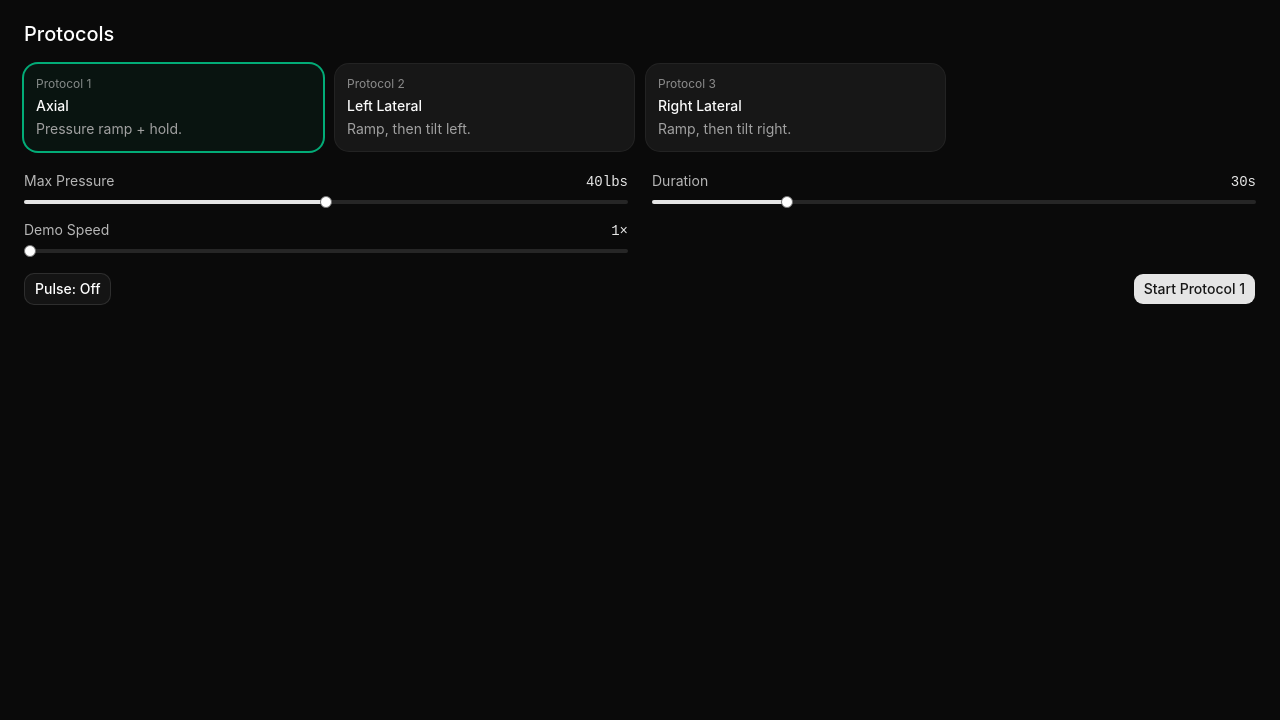
ProtocolsPage › Start Protocol sets running state and shows the running banner
The width and height of the screenshot is (1280, 720).
Click the button "Start Protocol 1" at (1194, 289), box [1133,273,1256,305]
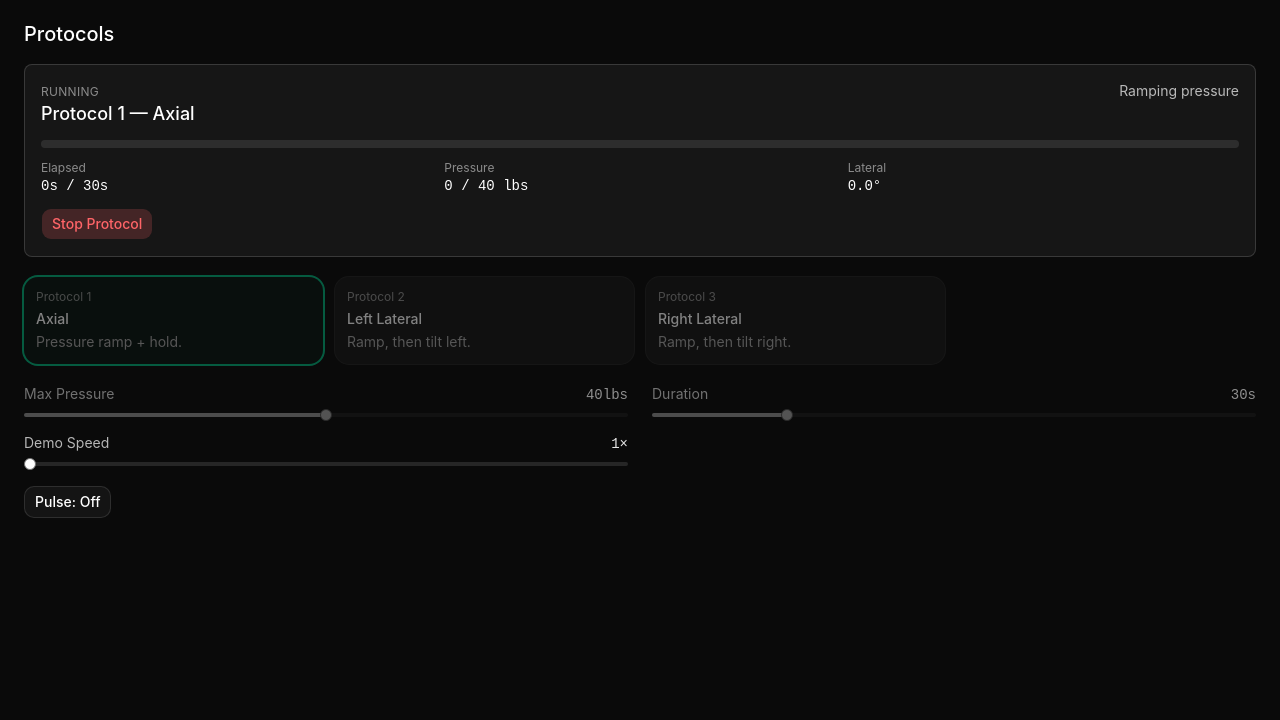
Now the text "Protocol 1 — Axial" is shown, box [41,100,195,128]
Now the button "Stop Protocol" is shown, box [41,208,153,240]
